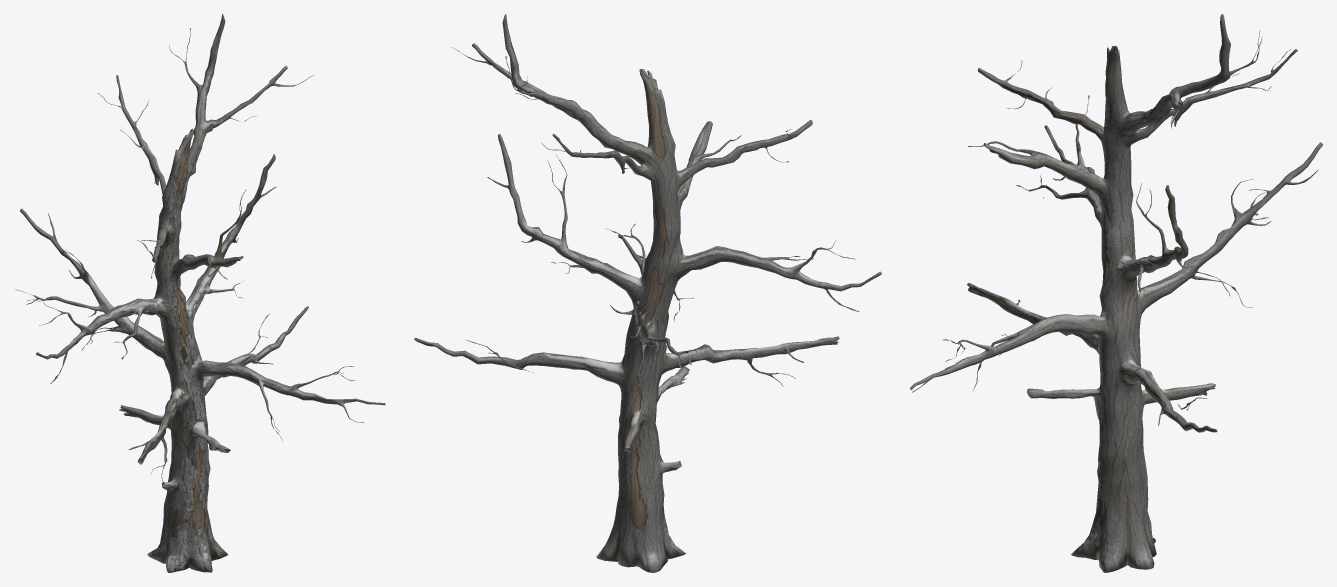
File: road_dead_tree.glb
3 renders of one model, left to right at view 1: azimuth 30°, elevation 25°; view 2: azimuth 150°, elevation 25°; view 3: azimuth 270°, elevation 25°, orthographic. The views are drawn at different scales.
Size of the model in its own units: 0.6958 by 0.9526 by 0.6104.
Materials: 1 (1 with a texture image).
